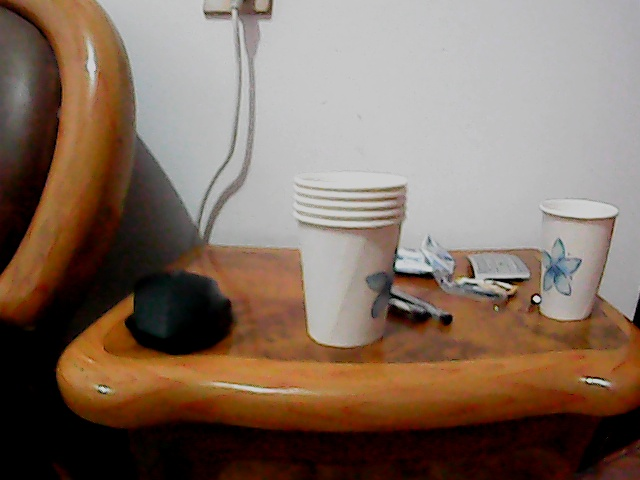cup: (290, 171, 401, 350)
mouse: (126, 265, 238, 355)
